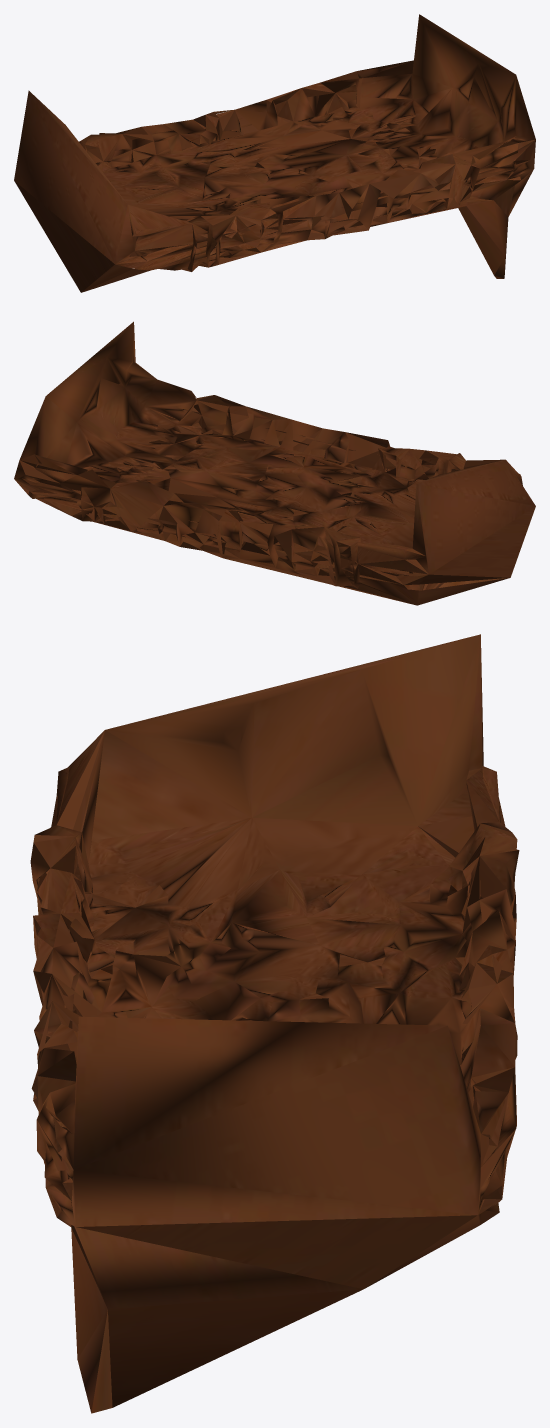
The model's file is charpai.glb.
The picture shows the model from 3 angles, top to bottom: view 1: azimuth 30°, elevation 25°; view 2: azimuth 150°, elevation 25°; view 3: azimuth 270°, elevation 25°; orthographic projection. The views are drawn at different scales.
Parts seen in each view (by area): view 1: charpai; view 2: charpai; view 3: charpai.
Part boxes in pixels (box(x1,y1,x2,y2)): charpai: box(14, 14, 535, 292); charpai: box(14, 321, 535, 605); charpai: box(30, 634, 519, 1413).
Bounding box in the file's own units: 2 × 0.9335 × 0.9993.
1 material, 1 textured.
